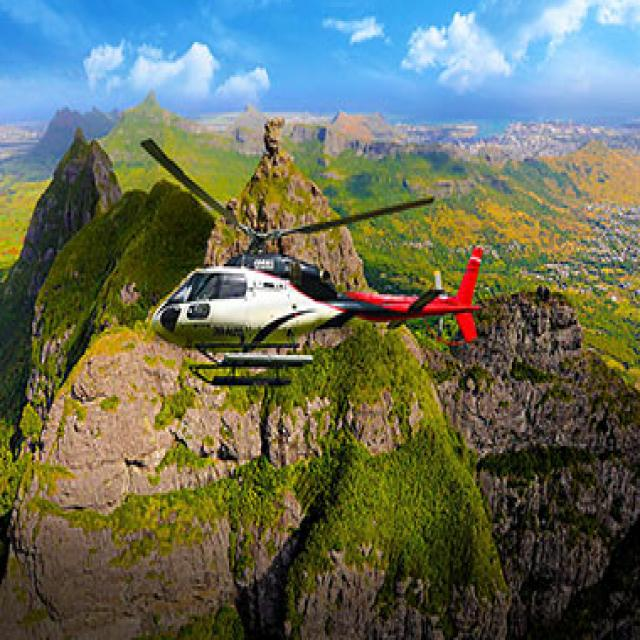helicopter: (146, 162, 488, 405)
